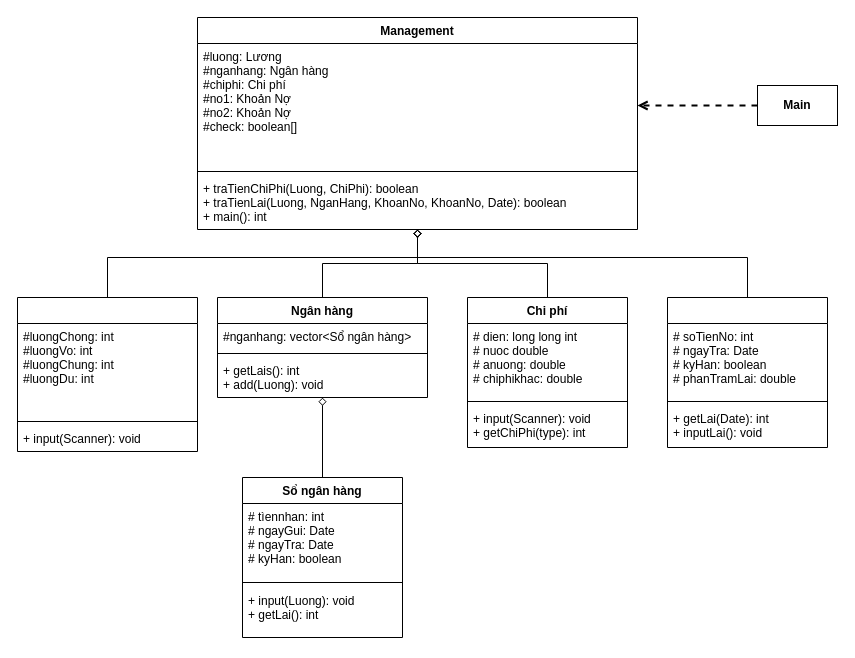
This 855x658 diagram has some shape labels left out. The shapes that lost their labels are listed below. From the top down, each one's box as (x1, y1, x2, y2) in pixels, then its label:
(16, 296, 198, 452): Lương
(666, 296, 828, 448): Khoản Nợ
